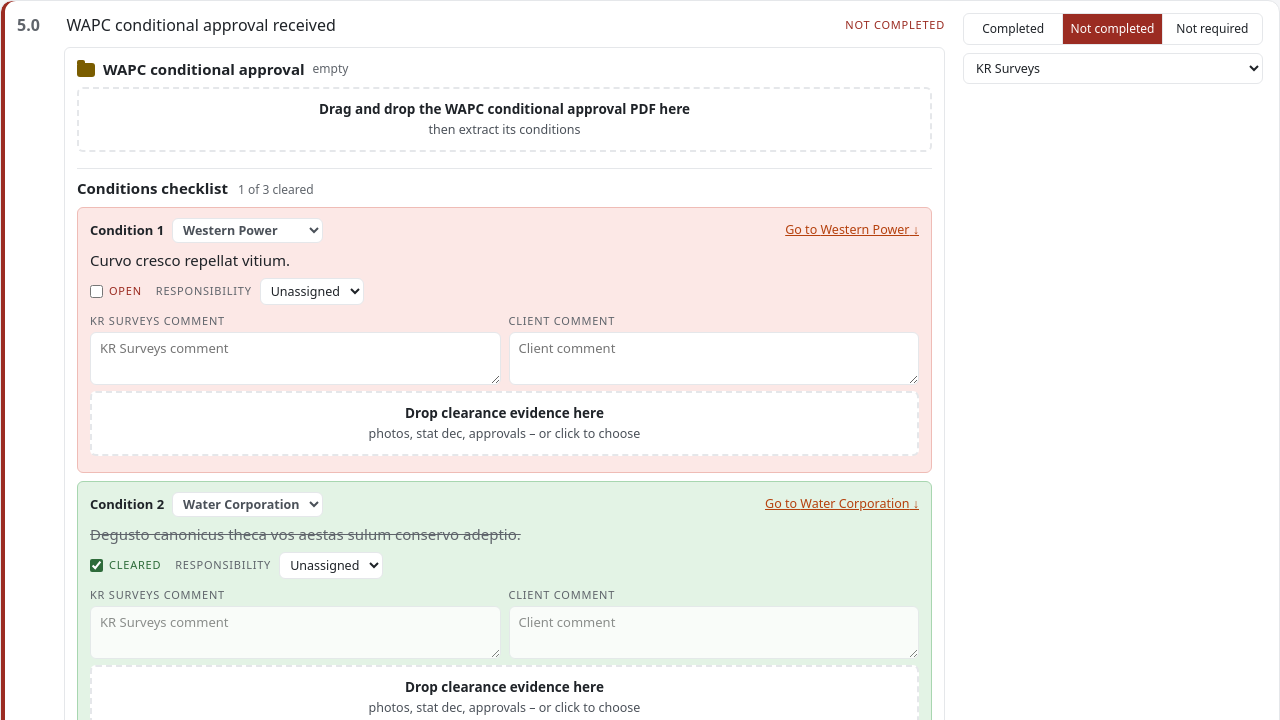
Test: writing a condition › treats a condition replaced by a new extraction (404) like a stale one: reload and say so
Click the checkbox named "Condition 1: Open": (96, 291) x1=90 y1=284 x2=103 y2=298
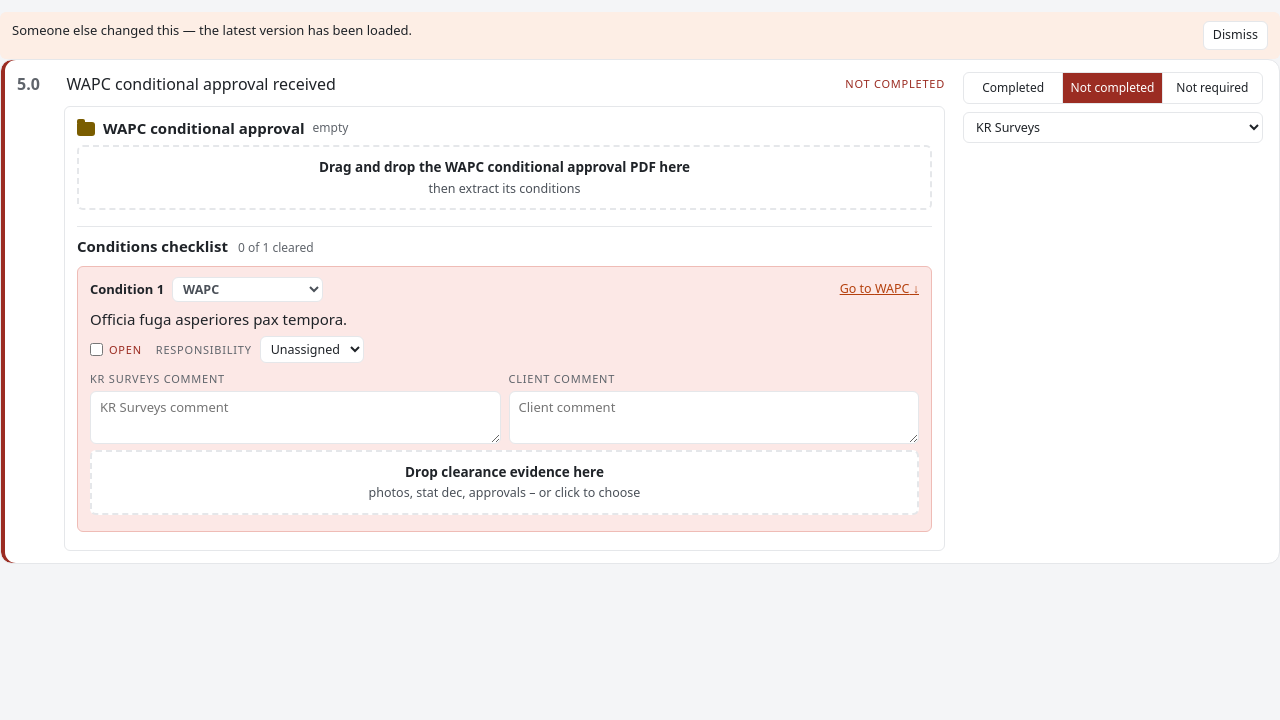
Expected: the text "Someone else changed this — the latest version has been loaded." is shown, x1=12 y1=21 x2=412 y2=39
Expected: the heading "Conditions checklist 0 of 1 cleared" is shown, x1=77 y1=236 x2=314 y2=256
Expected: the text "Condition 2" is gone
